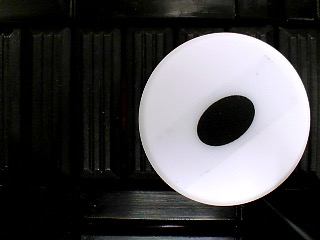BOHOEL: (138, 31, 312, 207)
